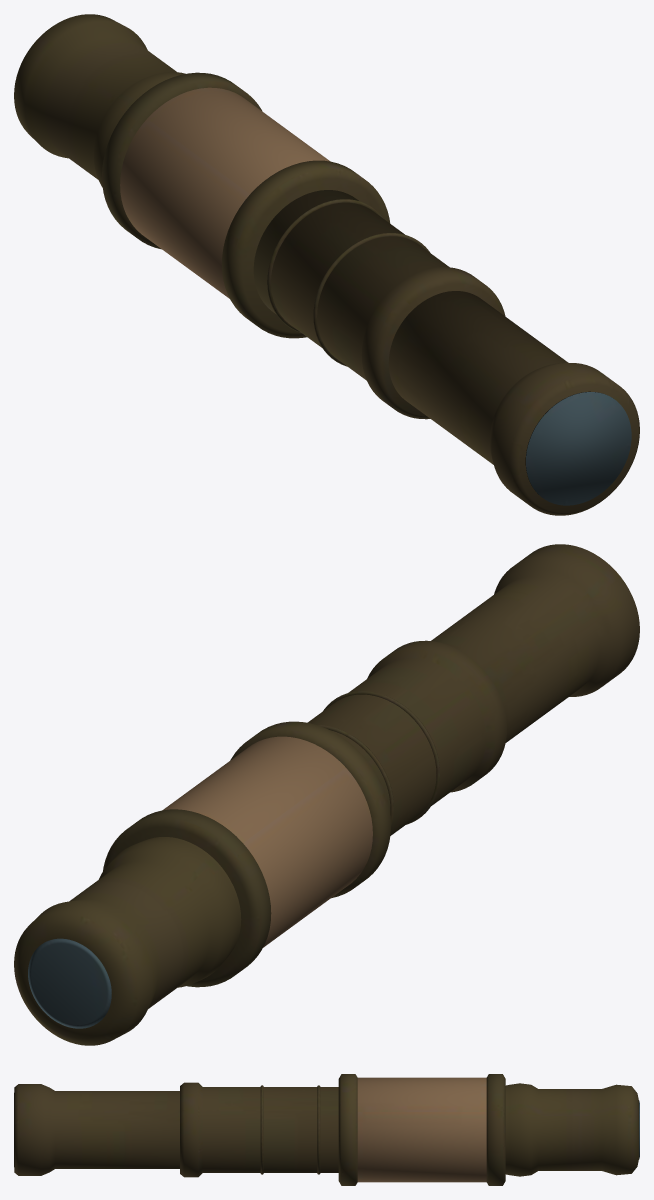
The model's file is tool_spyglass.glb.
3 renders of one model, top to bottom at view 1: azimuth 30°, elevation 25°; view 2: azimuth 150°, elevation 25°; view 3: azimuth 270°, elevation 25°, orthographic. The views are drawn at different scales.
Parts seen in each view (by area): view 1: spyglass-body, spyglass-tube-2, spyglass-tube-1, spyglass-eyepiece; view 2: spyglass-body, spyglass-eyepiece, spyglass-tube-2, spyglass-tube-1; view 3: spyglass-body, spyglass-tube-1, spyglass-tube-2, spyglass-eyepiece.
Part boxes in pixels (x1,y1,x2,y2): spyglass-body: [102, 72, 390, 338]; spyglass-tube-2: [388, 291, 639, 515]; spyglass-tube-1: [253, 190, 505, 419]; spyglass-eyepiece: [14, 14, 185, 187]; spyglass-body: [103, 721, 390, 987]; spyglass-eyepiece: [14, 837, 241, 1045]; spyglass-tube-2: [431, 544, 639, 742]; spyglass-tube-1: [307, 640, 506, 835]; spyglass-body: [338, 1074, 505, 1185]; spyglass-tube-1: [180, 1082, 338, 1177]; spyglass-tube-2: [14, 1084, 179, 1175]; spyglass-eyepiece: [505, 1083, 639, 1176].
Size of what is drawn, in the model's own units: 0.079 by 0.079 by 0.442.
1 material, 1 textured.
